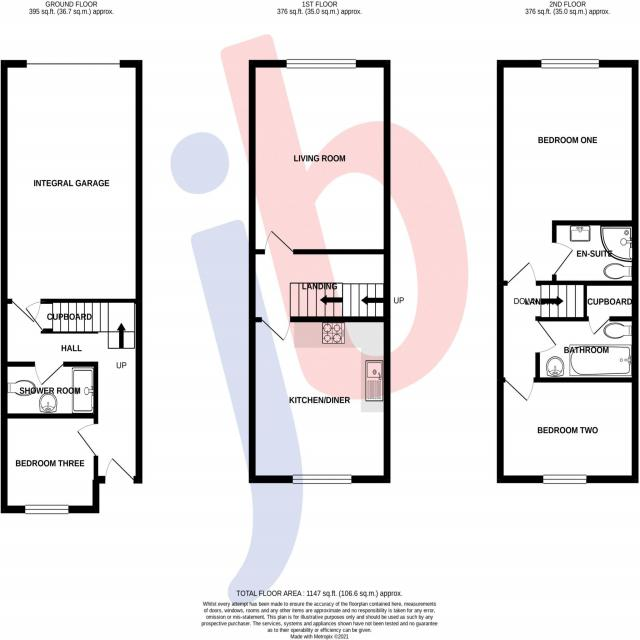DOOR: (534, 315, 560, 357), (503, 258, 541, 286), (75, 421, 99, 462), (103, 456, 137, 484), (32, 362, 70, 387), (262, 228, 297, 254), (552, 240, 575, 279), (503, 377, 536, 403), (8, 298, 42, 323), (260, 316, 292, 342)
ROOM: (496, 59, 638, 286), (249, 59, 390, 255), (248, 316, 391, 484), (497, 377, 639, 484), (0, 412, 98, 514)
WINDOW: (290, 470, 356, 489), (284, 58, 357, 70), (540, 57, 600, 70), (24, 504, 69, 516), (542, 474, 587, 485)
